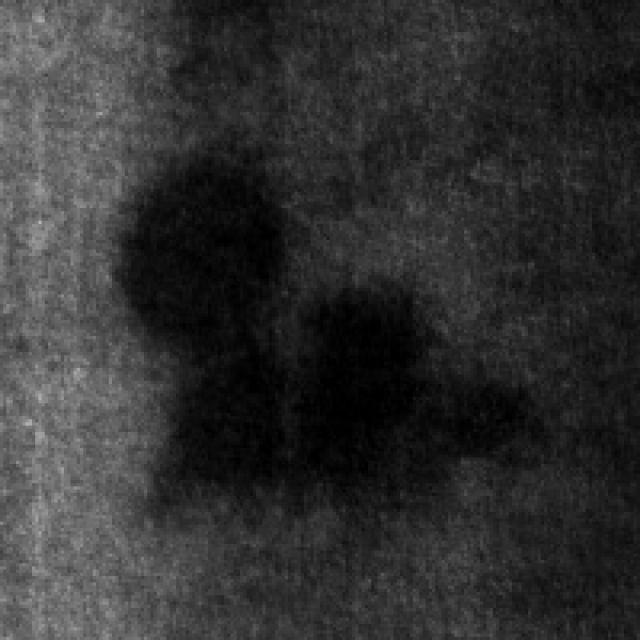patches: (307, 269, 544, 480), (119, 138, 298, 352), (163, 352, 304, 490)
